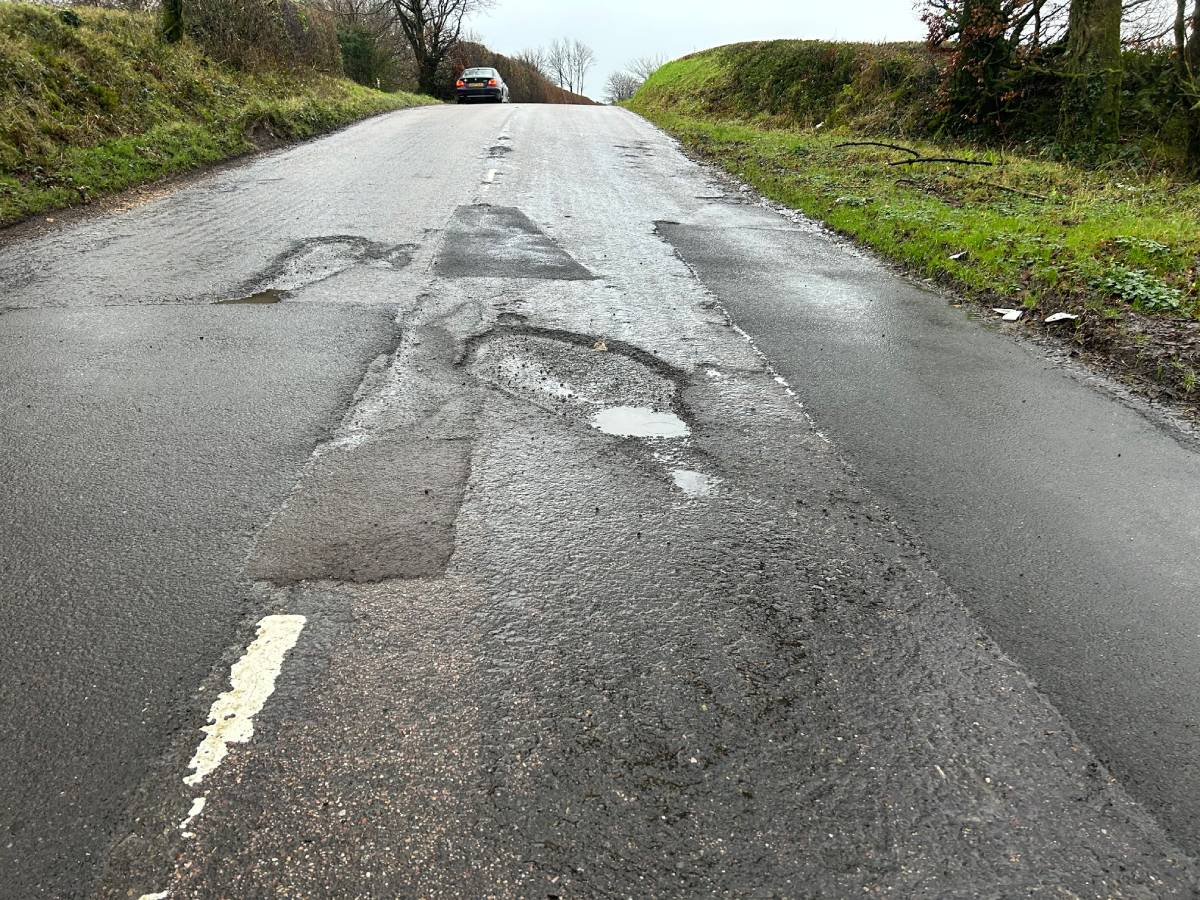Hole_in_the_road: (436, 283, 706, 505)
